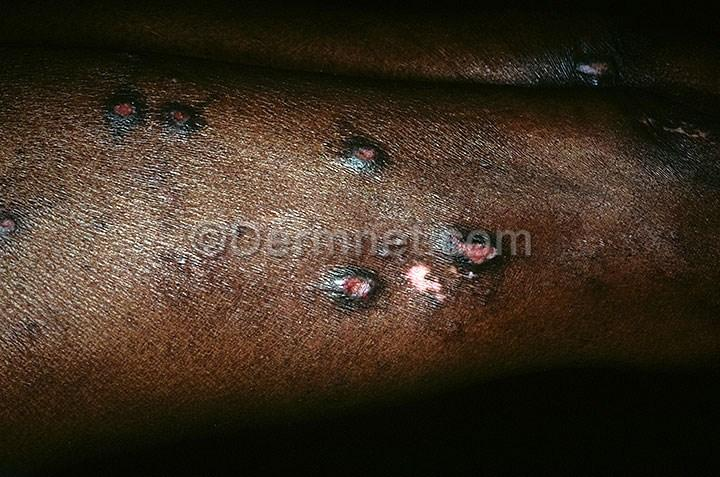Eczema: (559, 103, 720, 294), (121, 259, 278, 400), (73, 76, 249, 177), (0, 177, 89, 340), (429, 92, 553, 207), (303, 96, 425, 211), (289, 262, 422, 354), (439, 267, 539, 354)
